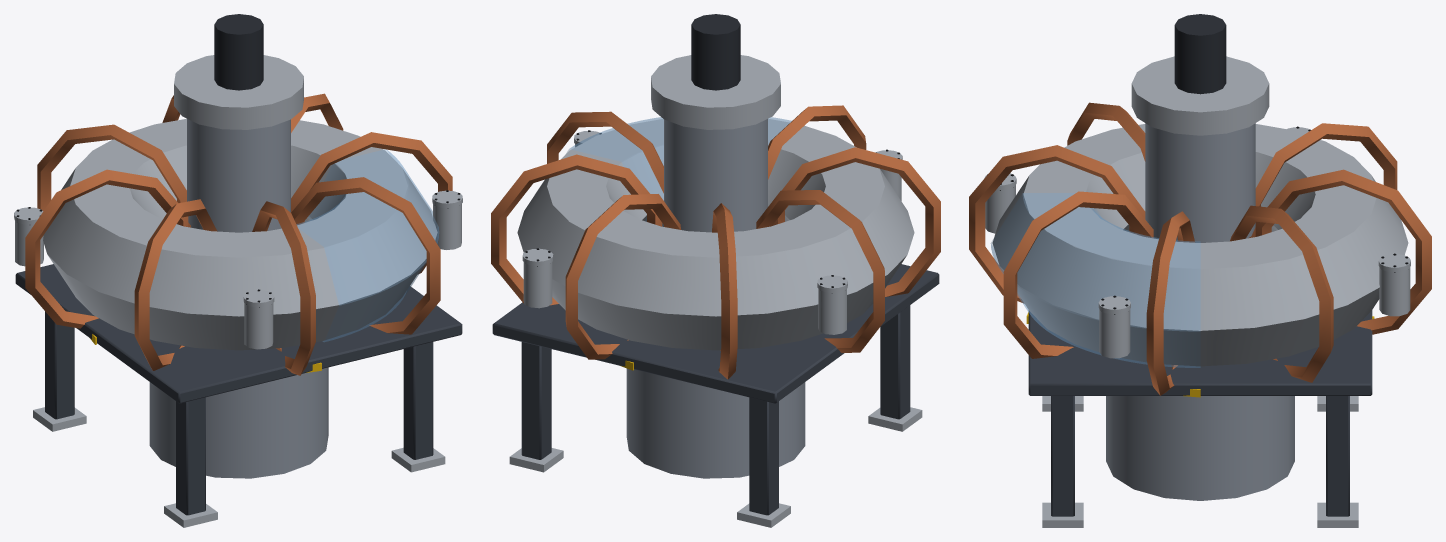
Rendered from reactor_plasma_tokamak_torus.glb.
The picture shows the model from 3 angles, left to right: view 1: azimuth 30°, elevation 25°; view 2: azimuth 150°, elevation 25°; view 3: azimuth 270°, elevation 25°; orthographic projection. The views are drawn at different scales.
Parts seen in each view (by area): view 1: reactor_plasma_tokamak_torus; view 2: reactor_plasma_tokamak_torus; view 3: reactor_plasma_tokamak_torus.
Part boxes in pixels (x1,y1,x2,y2): reactor_plasma_tokamak_torus: [14, 14, 462, 527]; reactor_plasma_tokamak_torus: [491, 14, 940, 527]; reactor_plasma_tokamak_torus: [969, 14, 1431, 527].
Bounding box in the file's own units: 2.69 × 2.8 × 2.69.
